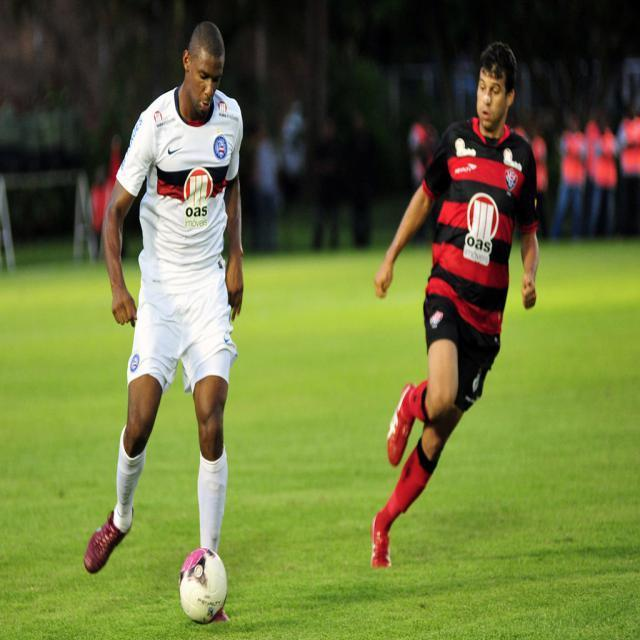football: (175, 542, 242, 631)
